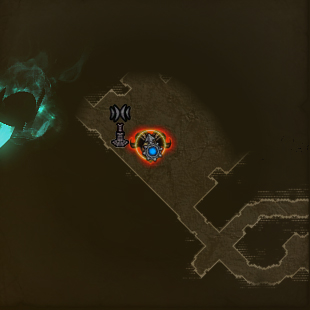Guardian: (129, 128, 174, 166)
